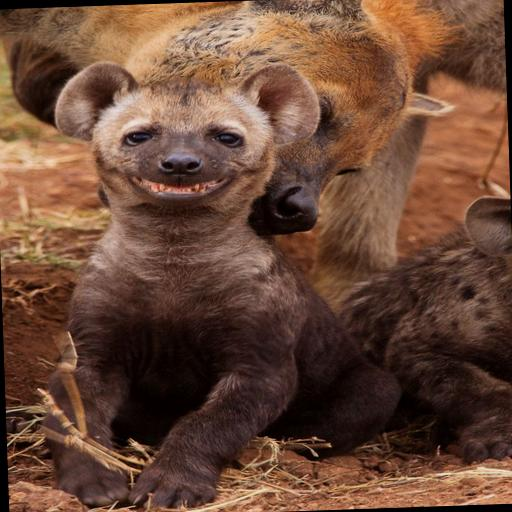hyenas: (7, 31, 512, 512)
